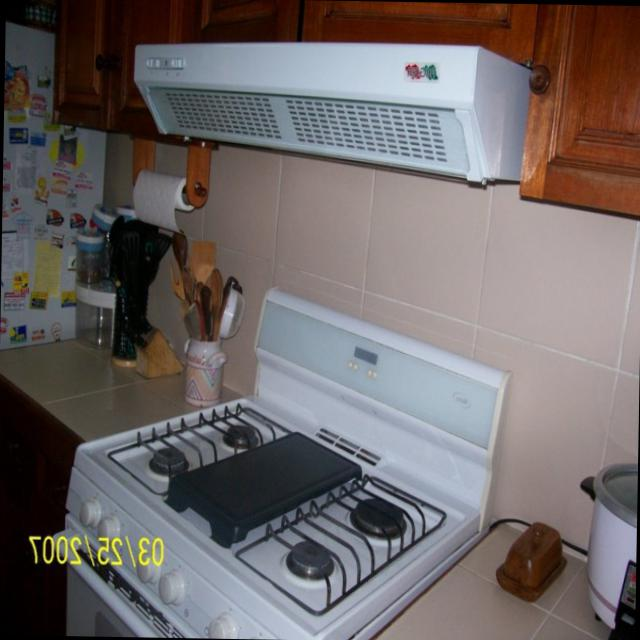2036: (374, 517, 633, 640), (3, 327, 243, 442)
cupboard door: (52, 0, 538, 135), (519, 5, 640, 216), (0, 370, 83, 634)
cutlery: (170, 228, 245, 404)
extractor hood: (132, 44, 530, 184)
fryer crop: (580, 464, 637, 640)
grill: (167, 434, 363, 543)
paper cup with straws: (135, 167, 189, 230)
stove hood: (46, 284, 513, 640)
wall clock: (108, 2, 640, 576), (4, 0, 109, 335)
